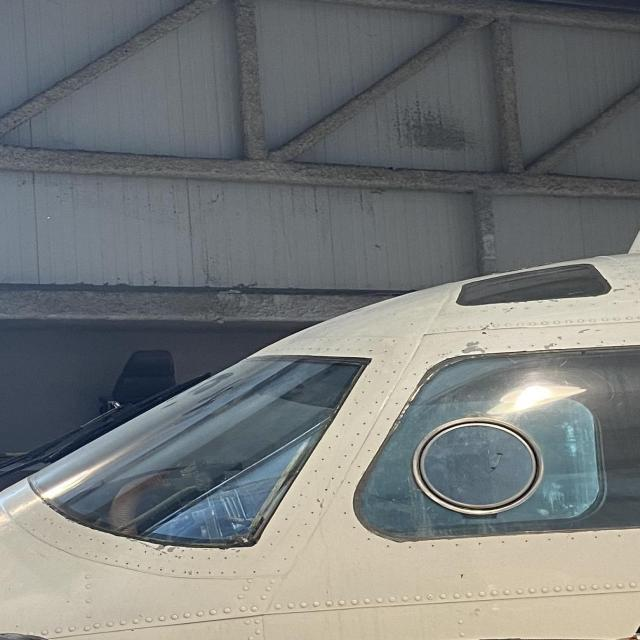Paint-off: (463, 340, 485, 355), (316, 495, 327, 512), (552, 333, 566, 342), (153, 544, 167, 552), (575, 328, 591, 334), (544, 299, 563, 304), (544, 342, 557, 349), (588, 328, 603, 333)
